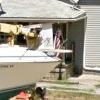Boat: (1, 31, 65, 97)
